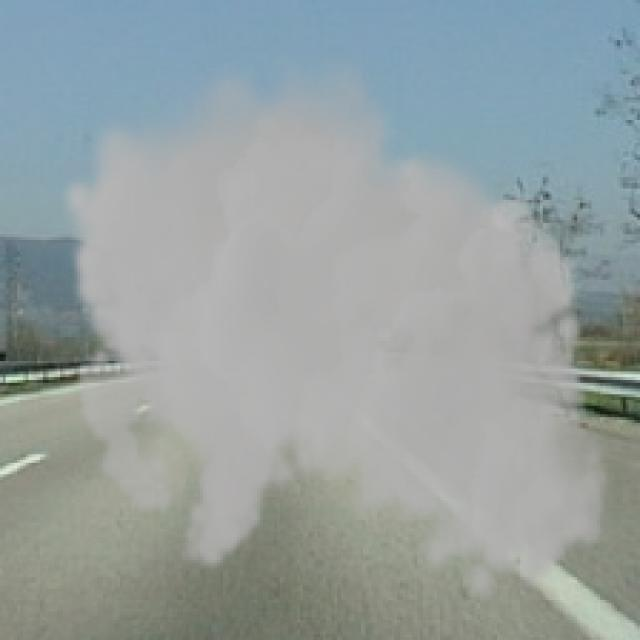Smoke: (57, 49, 612, 606)
